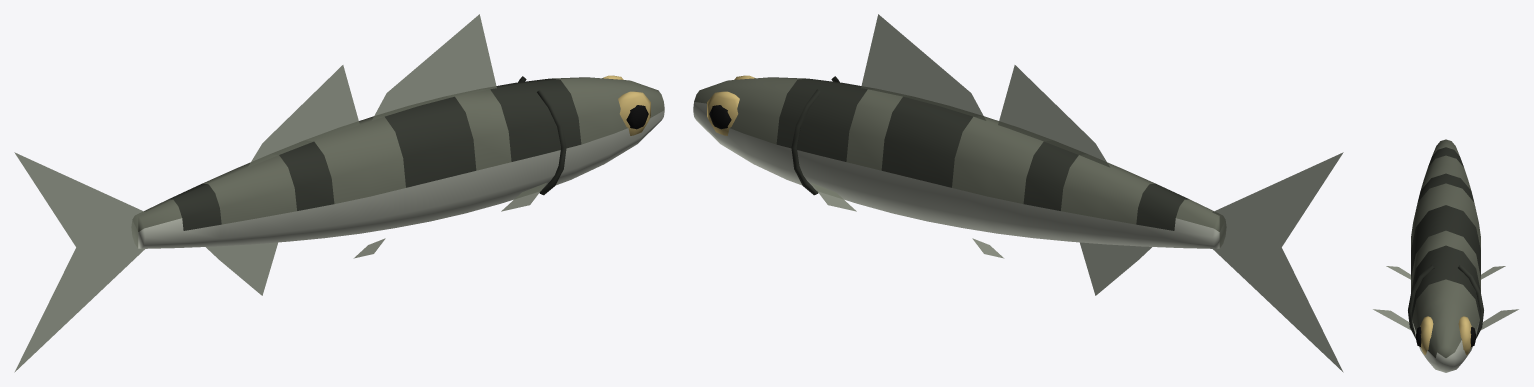
Rendered from lake-sudak-shallows-0.glb.
3 views of the same model, side by side, from view 1: azimuth 30°, elevation 25°; view 2: azimuth 150°, elevation 25°; view 3: azimuth 270°, elevation 25° (orthographic). The views are drawn at different scales.
Visible parts, largest first — view 1: lake-sudak-shallows-0; view 2: lake-sudak-shallows-0; view 3: lake-sudak-shallows-0.
Boxes of the visible parts, left/top/right/bottom form: lake-sudak-shallows-0: left=14, top=14, right=664, bottom=372; lake-sudak-shallows-0: left=693, top=14, right=1343, bottom=372; lake-sudak-shallows-0: left=1373, top=139, right=1518, bottom=372.
Size of the model in its own units: 0.6228 by 0.2266 by 0.1524.
